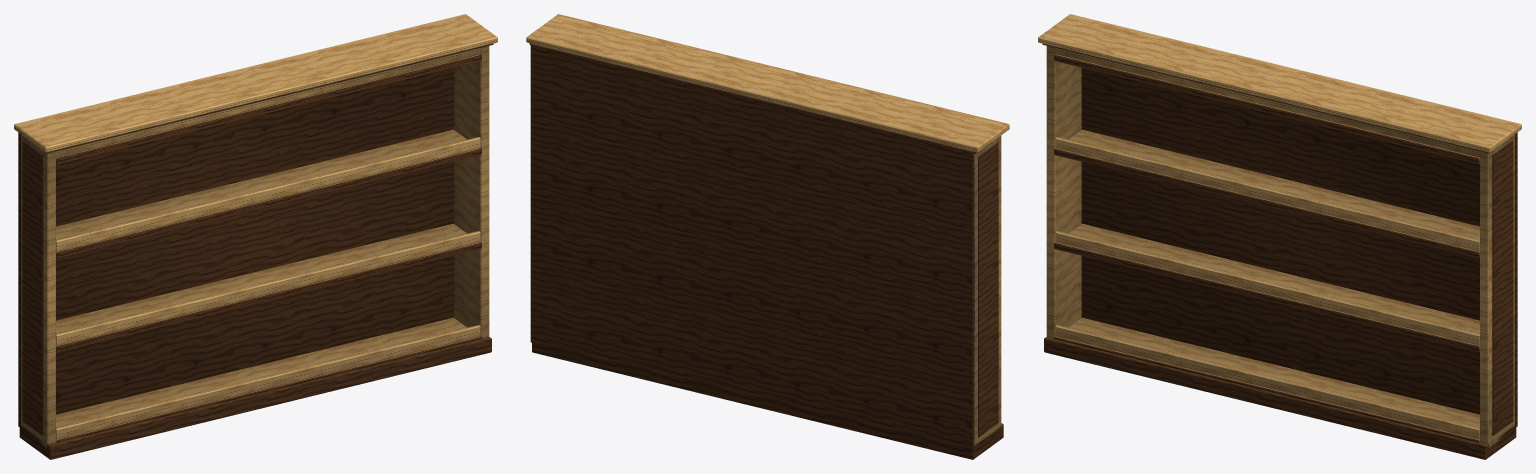
File: collection.glb
The picture shows the model from 3 angles, left to right: view 1: azimuth 30°, elevation 25°; view 2: azimuth 150°, elevation 25°; view 3: azimuth 330°, elevation 25°; orthographic projection.
Parts seen in each view (by area): view 1: collection_back, collection_crown, collection_side1, collection_plinth, collection_shelf2, collection_shelf1, collection_shelf0, collection_sideinset-1, collection_lip0, collection_lip1, collection_lip2, collection_side-1 (+7 smaller); view 2: collection_back, collection_crown, collection_sideinset-1, collection_plinth, collection_side-1; view 3: collection_back, collection_crown, collection_side-1, collection_plinth, collection_shelf2, collection_shelf1, collection_shelf0, collection_sideinset1, collection_lip0, collection_lip1, collection_lip2, collection_side1 (+7 smaller).
Boxes of the visible parts, <box> form: collection_back: <box>18,68,454,427</box>; collection_crown: <box>14,14,497,152</box>; collection_side1: <box>454,46,489,338</box>; collection_plinth: <box>19,336,491,459</box>; collection_shelf2: <box>56,129,479,256</box>; collection_shelf1: <box>56,223,479,350</box>; collection_shelf0: <box>56,317,479,441</box>; collection_sideinset-1: <box>22,141,43,435</box>; collection_lip0: <box>56,325,480,439</box>; collection_lip1: <box>56,231,480,345</box>; collection_lip2: <box>56,137,480,251</box>; collection_side-1: <box>21,135,55,447</box>; collection_back: <box>530,44,974,449</box>; collection_crown: <box>526,14,1009,152</box>; collection_sideinset-1: <box>978,143,998,437</box>; collection_plinth: <box>532,343,1003,459</box>; collection_side-1: <box>974,135,1001,445</box>; collection_back: <box>1081,68,1517,427</box>; collection_crown: <box>1038,14,1521,152</box>; collection_side-1: <box>1046,46,1081,338</box>; collection_plinth: <box>1044,336,1516,459</box>; collection_shelf2: <box>1056,129,1479,256</box>; collection_shelf1: <box>1056,223,1479,350</box>; collection_shelf0: <box>1056,317,1479,441</box>; collection_sideinset1: <box>1492,141,1513,435</box>; collection_lip0: <box>1055,325,1479,439</box>; collection_lip1: <box>1055,231,1479,345</box>; collection_lip2: <box>1055,137,1479,251</box>; collection_side1: <box>1480,134,1514,447</box>.
Bounding box in the file's own units: 13.1 × 8.71 × 1.63.
2 materials, 2 textured.
